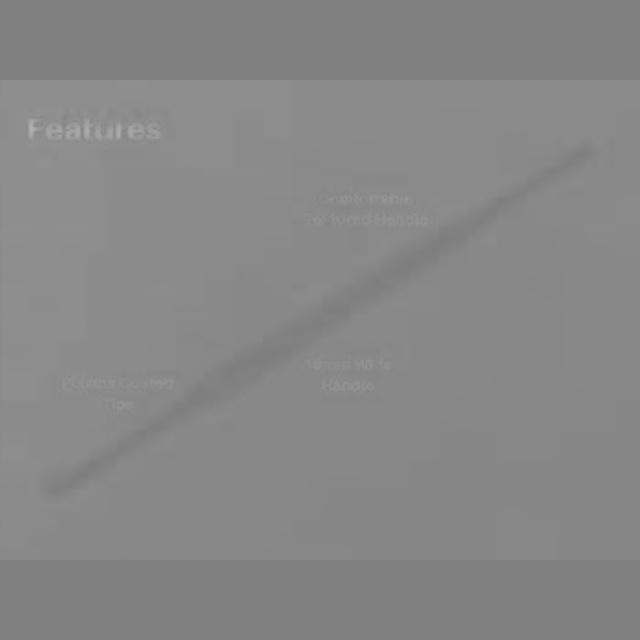elevador: (47, 145, 600, 501)
